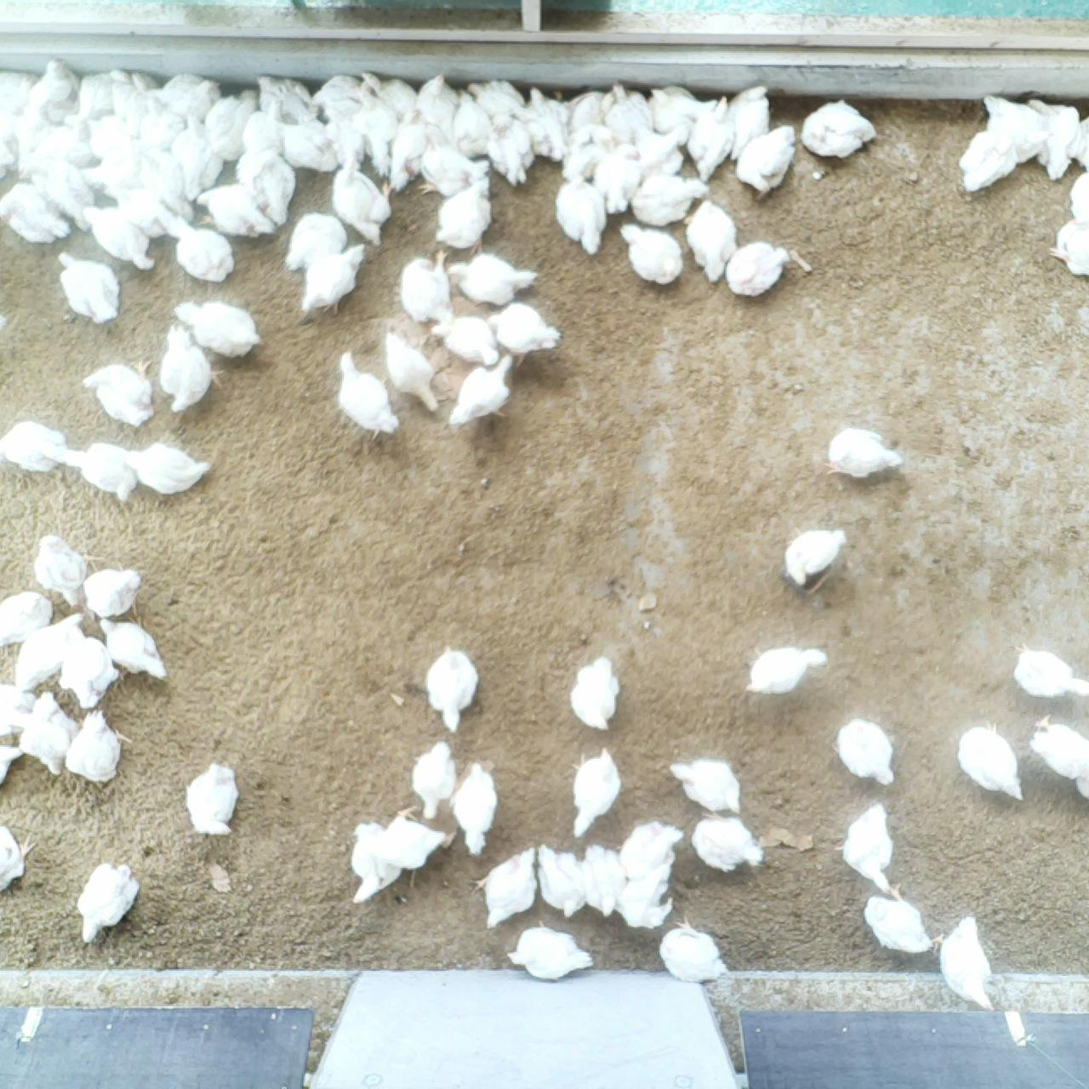chicken: (334, 347, 402, 445), (466, 845, 539, 932), (955, 718, 1028, 805), (859, 884, 947, 956), (936, 914, 1000, 1013), (12, 609, 87, 693), (415, 121, 494, 199), (17, 690, 84, 781), (374, 803, 453, 879), (505, 920, 598, 984), (834, 799, 896, 895), (80, 356, 161, 429), (73, 860, 142, 945), (172, 299, 265, 362), (446, 251, 542, 311), (168, 112, 229, 205), (423, 640, 482, 736), (61, 706, 133, 784), (95, 615, 173, 687), (298, 242, 370, 319), (569, 743, 626, 840), (430, 174, 495, 259), (53, 247, 122, 327), (333, 156, 391, 251), (159, 319, 216, 415), (80, 204, 158, 274), (447, 352, 517, 430), (344, 821, 407, 907), (553, 165, 611, 258), (449, 760, 503, 859), (734, 123, 801, 202), (799, 96, 880, 161), (121, 439, 211, 497), (238, 148, 304, 227), (0, 180, 71, 253), (57, 440, 143, 500), (980, 92, 1051, 164), (657, 915, 730, 985), (564, 649, 623, 735), (382, 329, 441, 415), (684, 199, 741, 287), (31, 530, 90, 614), (193, 182, 277, 241), (1026, 95, 1082, 183), (30, 160, 98, 232), (165, 220, 239, 286), (744, 642, 831, 698), (684, 93, 736, 185), (283, 207, 350, 278), (694, 810, 767, 875), (1013, 639, 1089, 701), (184, 759, 242, 840), (668, 757, 745, 818), (822, 425, 905, 481), (398, 248, 456, 328), (630, 172, 714, 227), (835, 715, 898, 788), (234, 98, 287, 183), (723, 84, 779, 164), (536, 844, 592, 923), (781, 523, 848, 589), (618, 222, 686, 287), (619, 819, 687, 884), (486, 301, 564, 356), (954, 127, 1018, 194), (1029, 712, 1089, 782), (724, 239, 792, 300), (522, 85, 574, 164), (150, 72, 222, 129), (205, 89, 261, 162), (485, 111, 538, 188), (409, 739, 458, 821), (592, 140, 644, 217), (0, 418, 69, 476), (355, 86, 397, 178), (133, 137, 188, 207), (644, 83, 721, 133), (579, 844, 628, 921), (431, 314, 502, 367), (620, 865, 677, 931), (21, 54, 79, 118), (280, 118, 342, 177), (81, 564, 146, 620), (113, 185, 179, 240), (253, 71, 320, 125), (599, 78, 654, 143), (16, 131, 86, 182), (628, 122, 692, 177), (447, 86, 495, 159), (318, 105, 366, 176), (0, 589, 56, 649), (387, 109, 427, 193), (360, 68, 422, 122), (559, 133, 621, 184), (413, 70, 466, 129), (0, 818, 39, 896), (82, 143, 140, 194), (74, 67, 133, 117), (465, 74, 525, 122), (1044, 214, 1089, 277), (85, 111, 138, 156), (309, 72, 371, 109), (564, 88, 616, 131), (130, 66, 161, 119), (1065, 168, 1089, 223)
